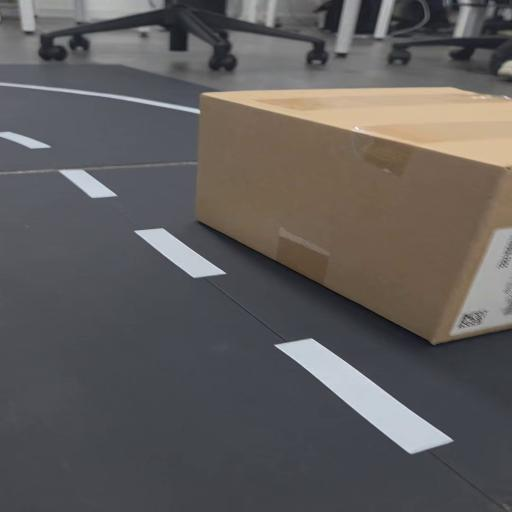Box: (205, 87, 512, 353)
